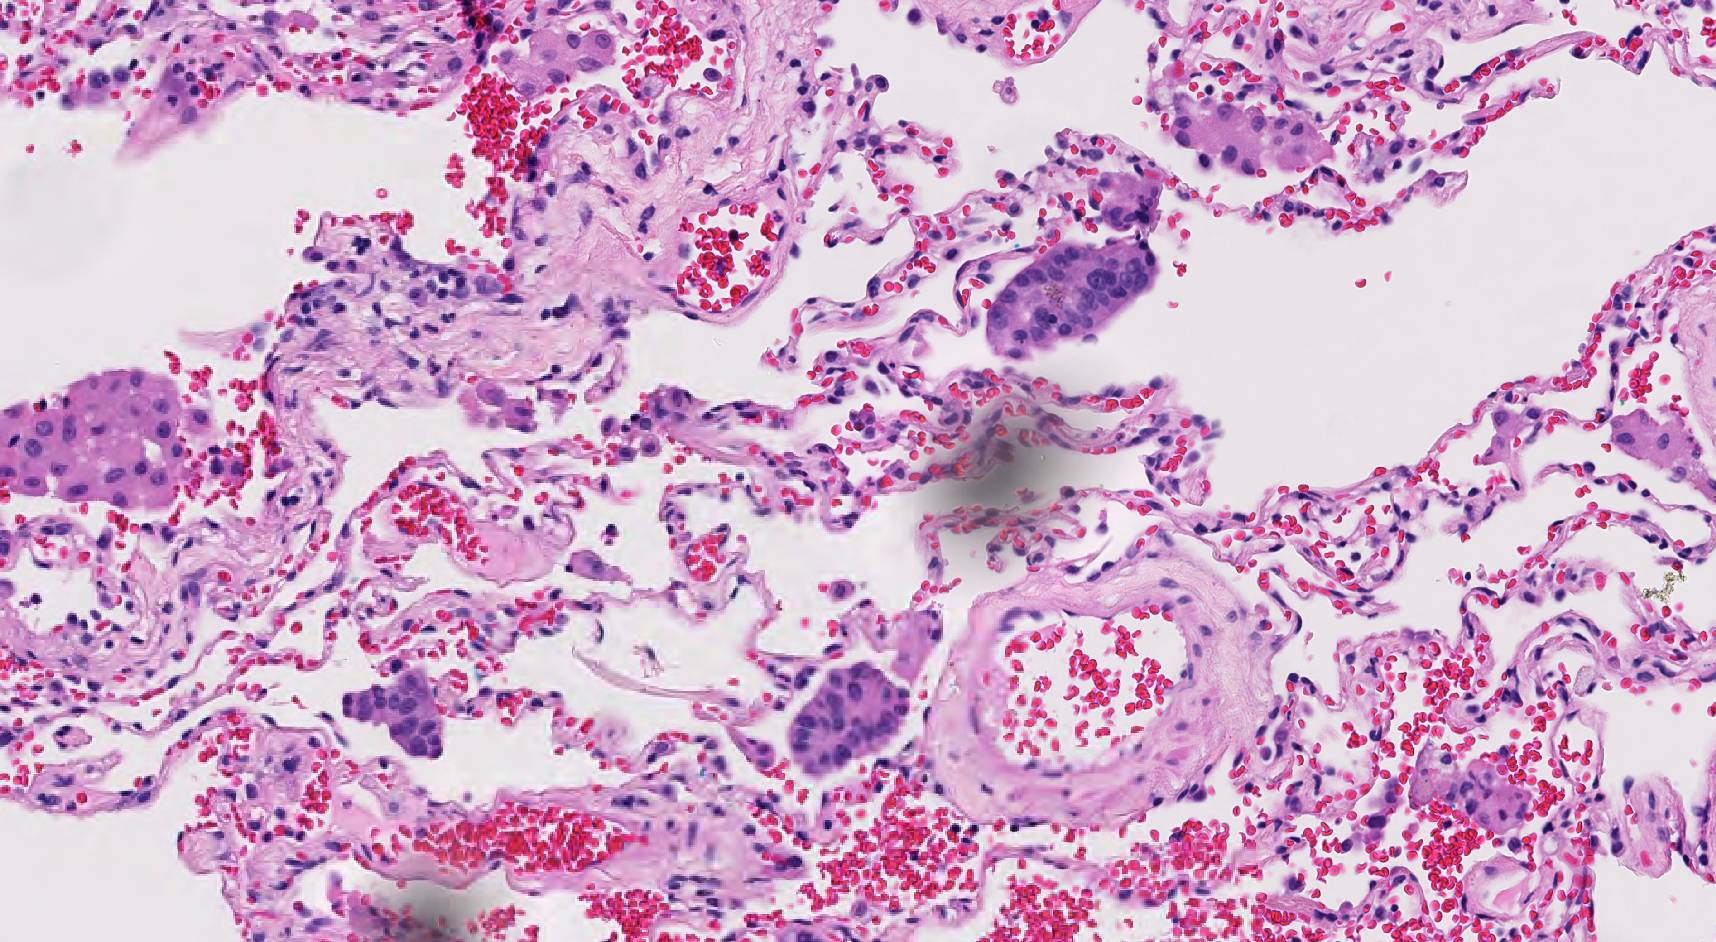stas: (984, 237, 1160, 361), (787, 659, 910, 777), (338, 670, 450, 768)
